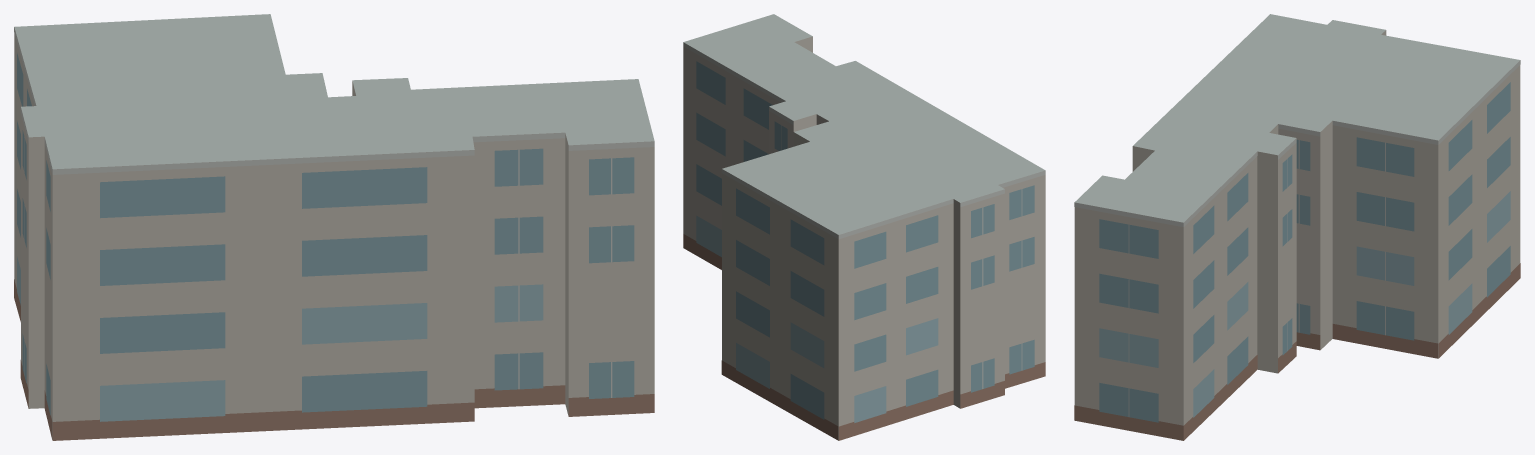
Rendered from survey-upis-32531086.glb.
3 renders of one model, left to right at view 1: azimuth 30°, elevation 25°; view 2: azimuth 150°, elevation 25°; view 3: azimuth 270°, elevation 25°, orthographic. The views are drawn at different scales.
Visible parts, largest first — view 1: survey-upis-32531086.tmp; view 2: survey-upis-32531086.tmp; view 3: survey-upis-32531086.tmp.
Boxes of the visible parts, bbox=[...] form: survey-upis-32531086.tmp: bbox=[14, 14, 654, 440]; survey-upis-32531086.tmp: bbox=[683, 14, 1045, 440]; survey-upis-32531086.tmp: bbox=[1074, 14, 1520, 440].
Bounding box in the file's own units: 24 × 11.7 × 21.68.
